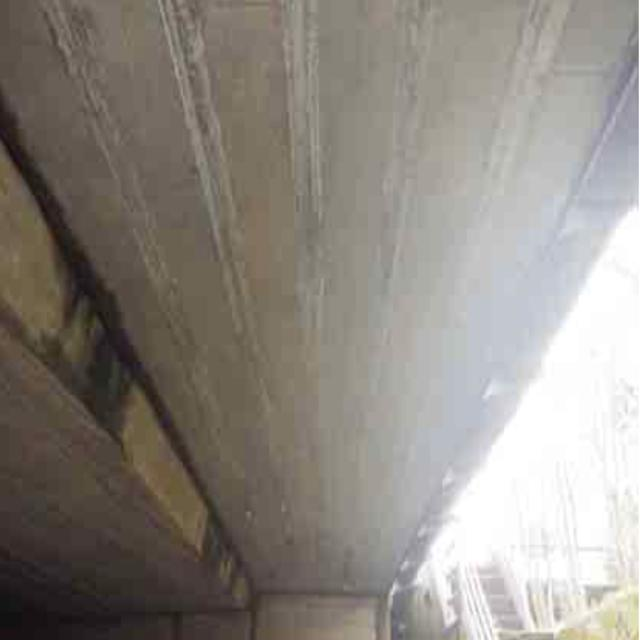leakage: (43, 256, 157, 454)
